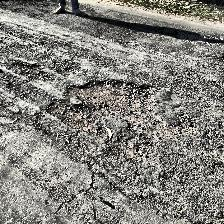pothole: (44, 76, 198, 162), (10, 60, 44, 80)
